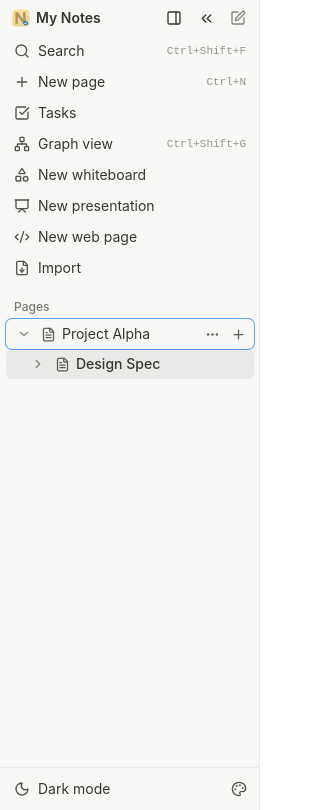
it: Sidebar › renames a page inline (F2) and deletes with confirmation
Later steps or results of the test are not shown.
Press F2
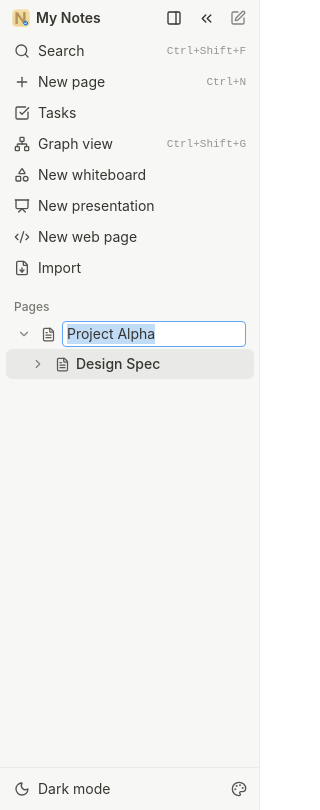
Replace the text in the field with "Project Beta" at (154, 334), box [62,321,246,347]
Then press Enter
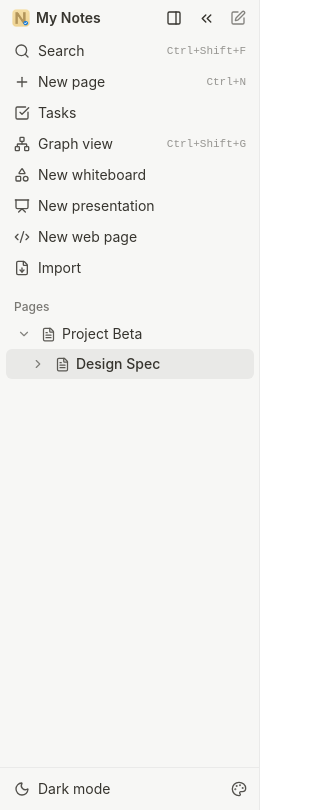
Result: the text "Project Beta" is shown at [62,325,142,342]
